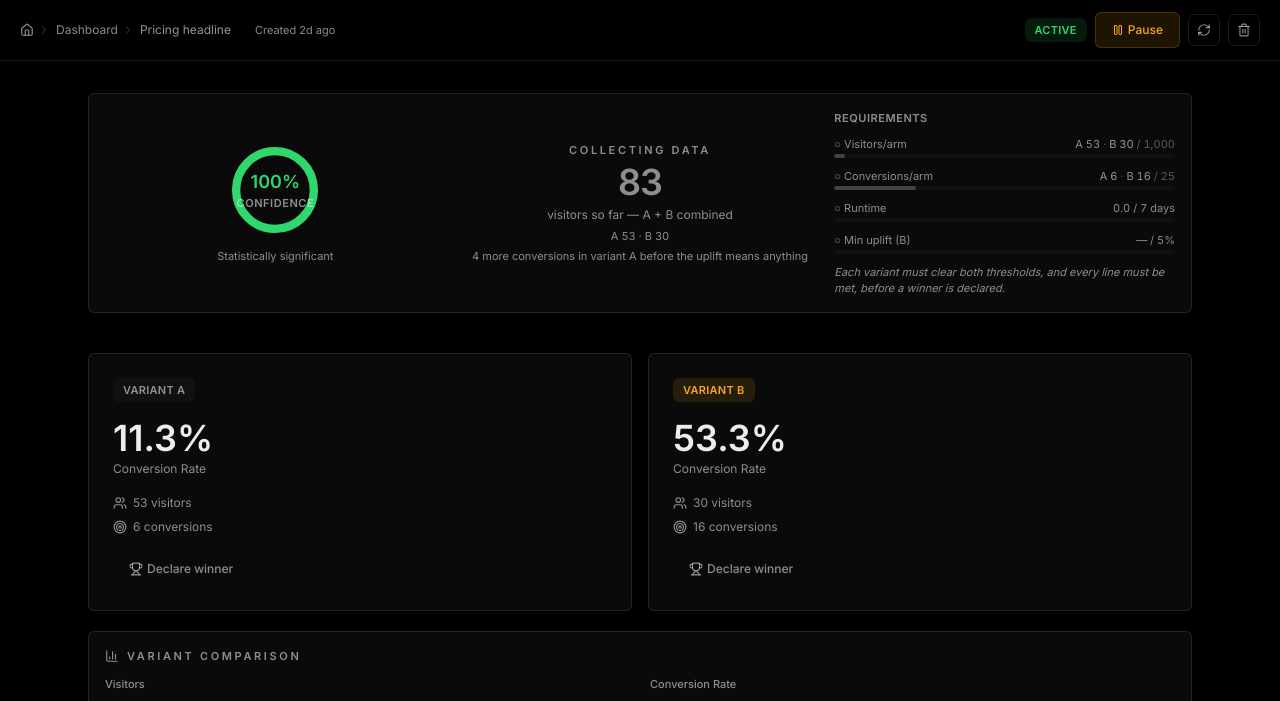
Test: Manuelles Winner-Override › zeigt einen Fehler, wenn der PATCH fehlschlägt
What coordinates should you click on to do the following:
click the button "Declare winner" below "11.3%"
I would click on:
 (181, 569)
Its box is [113,552,249,586].
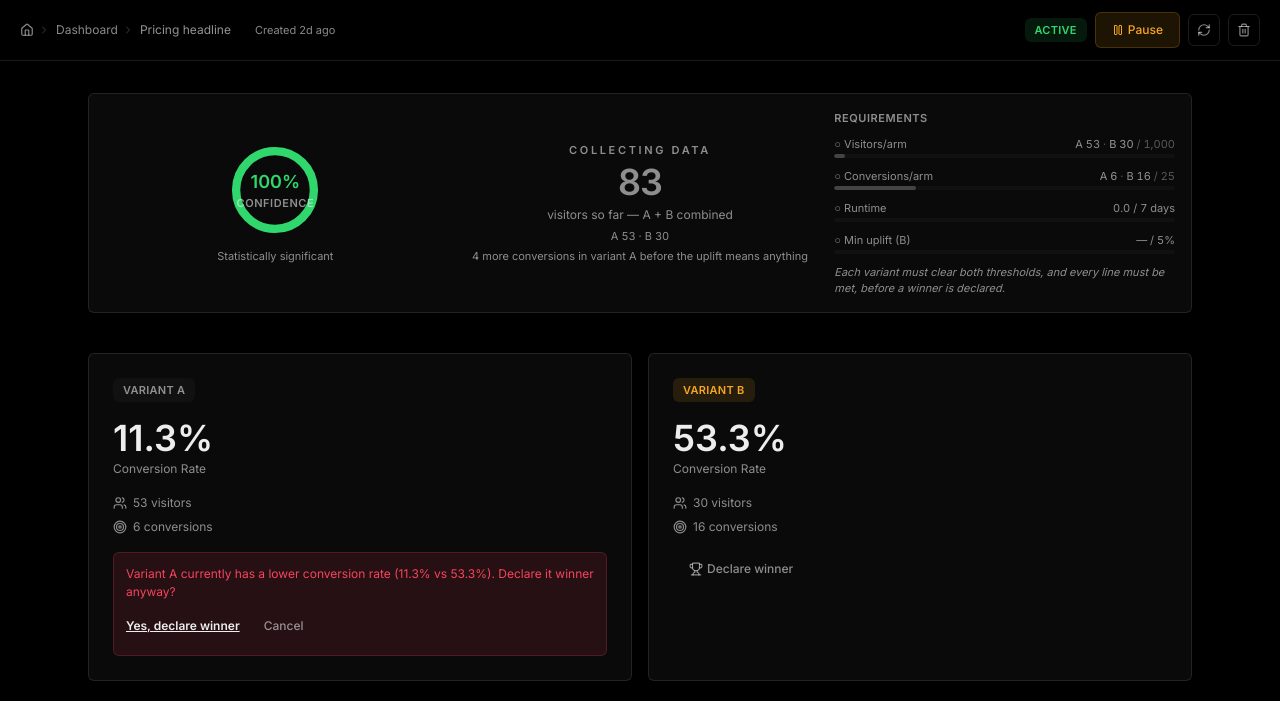
What coordinates should you click on to do the following:
click the button "Yes, declare winner"
I would click on:
 (183, 626)
Its box is [126,617,240,635].
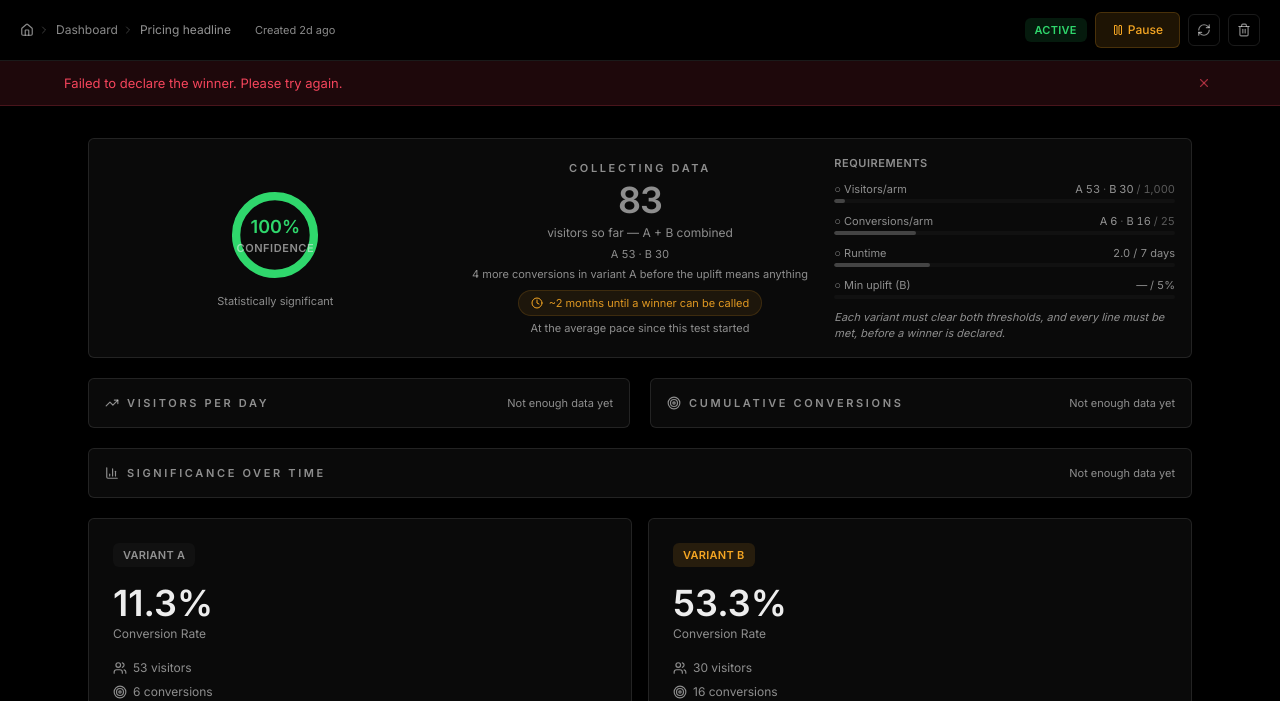
Check: the text "Failed to declare the winner. Please try again." is shown, box [64,73,342,93]
